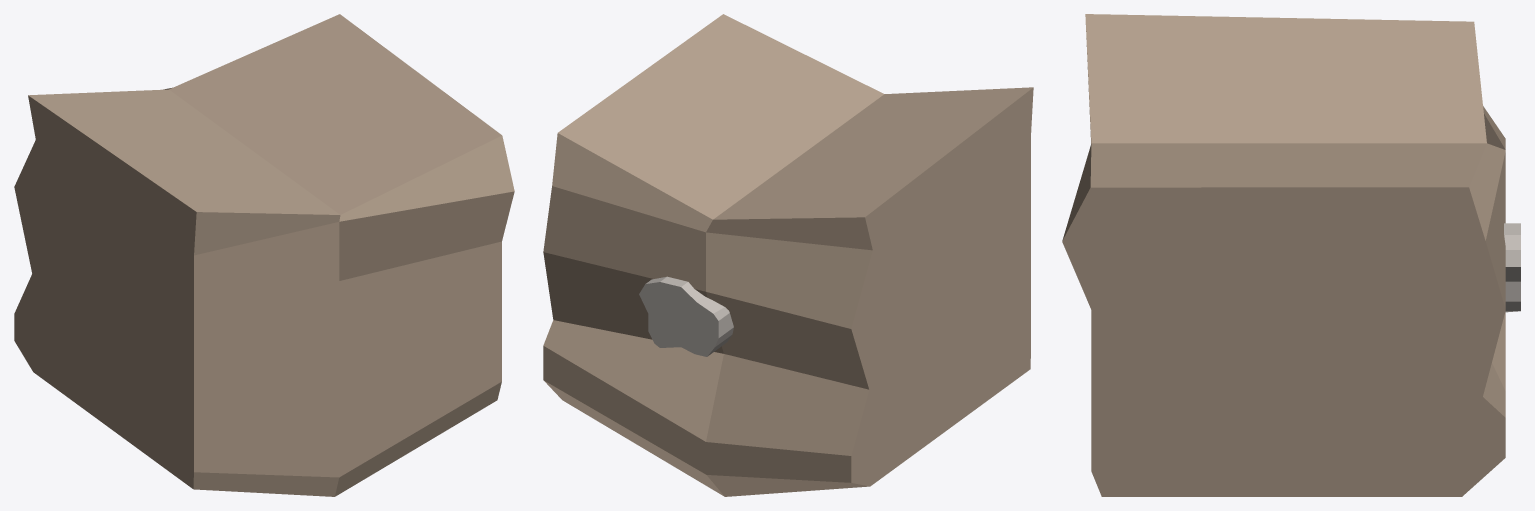
Rendered from MiddleDirt.fbx.
3 views of the same model, side by side, from view 1: azimuth 30°, elevation 25°; view 2: azimuth 150°, elevation 25°; view 3: azimuth 270°, elevation 25° (orthographic). The views are drawn at different scales.
Visible parts, largest first — view 1: polySurface111; view 2: polySurface111; view 3: polySurface111.
Part boxes in pixels (bbox=[...]): polySurface111: bbox=[14, 14, 514, 496]; polySurface111: bbox=[543, 14, 1033, 496]; polySurface111: bbox=[1062, 14, 1520, 496].
Size of the model in its own units: 1.99 by 2 by 2.21.
